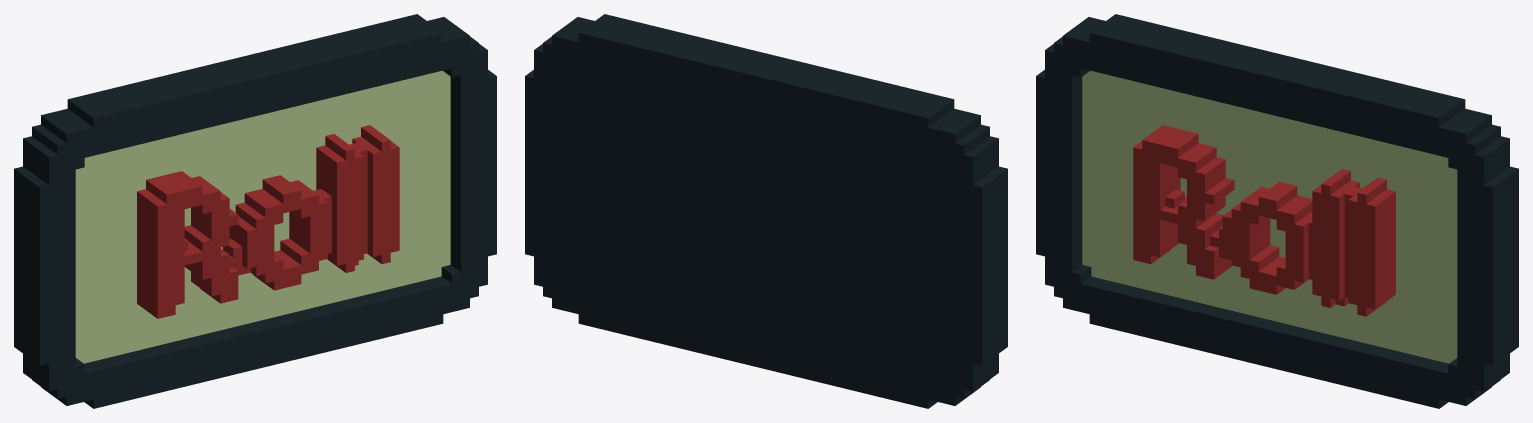
The model's file is button_roll.fbx.
3 views of the same model, side by side, from view 1: azimuth 30°, elevation 25°; view 2: azimuth 150°, elevation 25°; view 3: azimuth 330°, elevation 25° (orthographic).
Visible parts, largest first — view 1: OUT; view 2: OUT; view 3: OUT.
Part boxes in pixels (box(x1,y1,x2,y2)): OUT: box(14, 14, 496, 408); OUT: box(525, 14, 1007, 408); OUT: box(1036, 14, 1518, 408).
Bounding box in the file's own units: 2.55 × 1.55 × 0.3502.
